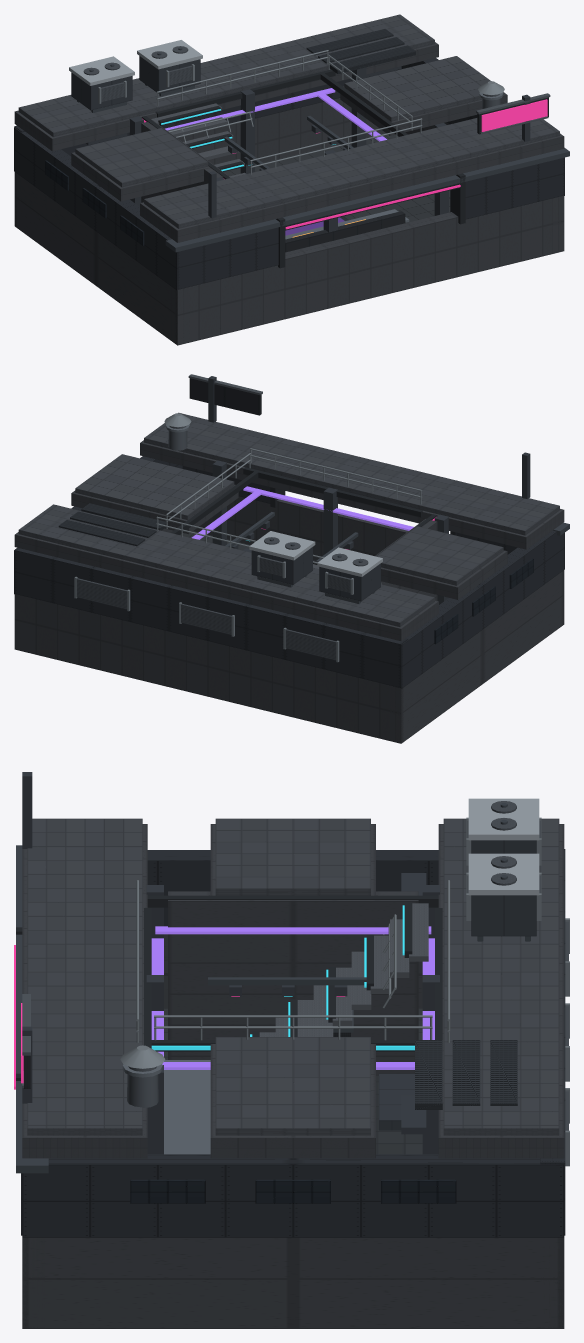
The model's file is civic-cyberpunk-station-built.glb.
3 renders of one model, top to bottom at view 1: azimuth 30°, elevation 25°; view 2: azimuth 150°, elevation 25°; view 3: azimuth 270°, elevation 25°, orthographic. The views are drawn at different scales.
Bounding box in the file's own units: 30.2 × 11.9 × 22.16.
Materials: 37 (25 with a texture image).
